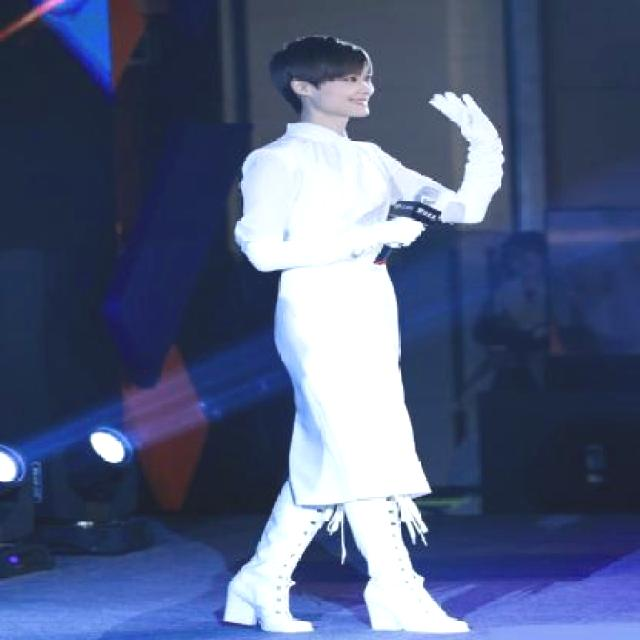face_nomask: (318, 69, 380, 122)
hand_glove: (428, 91, 497, 143), (380, 217, 425, 249)
head_nohelmet: (260, 29, 374, 82)
person: (217, 15, 514, 640)
shoes: (336, 501, 478, 634), (212, 488, 326, 637)
